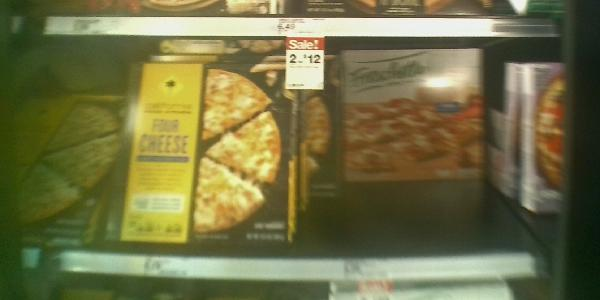pizza: (129, 55, 306, 258), (4, 89, 126, 255), (343, 50, 483, 179), (518, 64, 564, 222)
pizza1: (150, 38, 325, 56)
